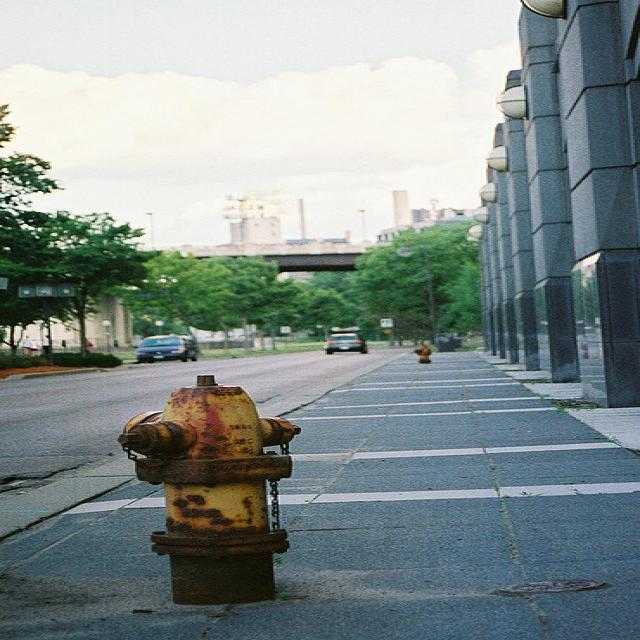Vehicle: (131, 335, 198, 364), (325, 333, 368, 355)
